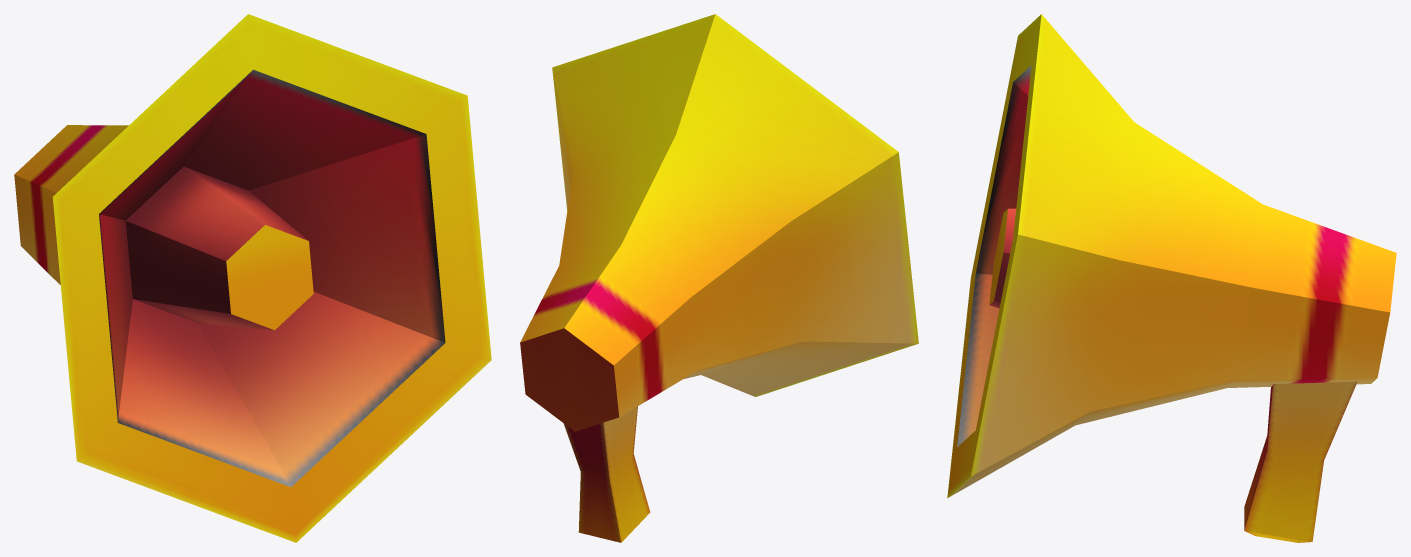
The model's file is item_help1.FBX.
3 renders of one model, left to right at view 1: azimuth 30°, elevation 25°; view 2: azimuth 150°, elevation 25°; view 3: azimuth 270°, elevation 25°, orthographic. The views are drawn at different scales.
Parts seen in each view (by area): view 1: item_help1; view 2: item_help1; view 3: item_help1.
Part boxes in pixels (x1,y1,x2,y2): item_help1: [14, 14, 491, 542]; item_help1: [520, 14, 918, 542]; item_help1: [947, 14, 1396, 542].
Bounding box in the file's own units: 178 × 218 × 170.
